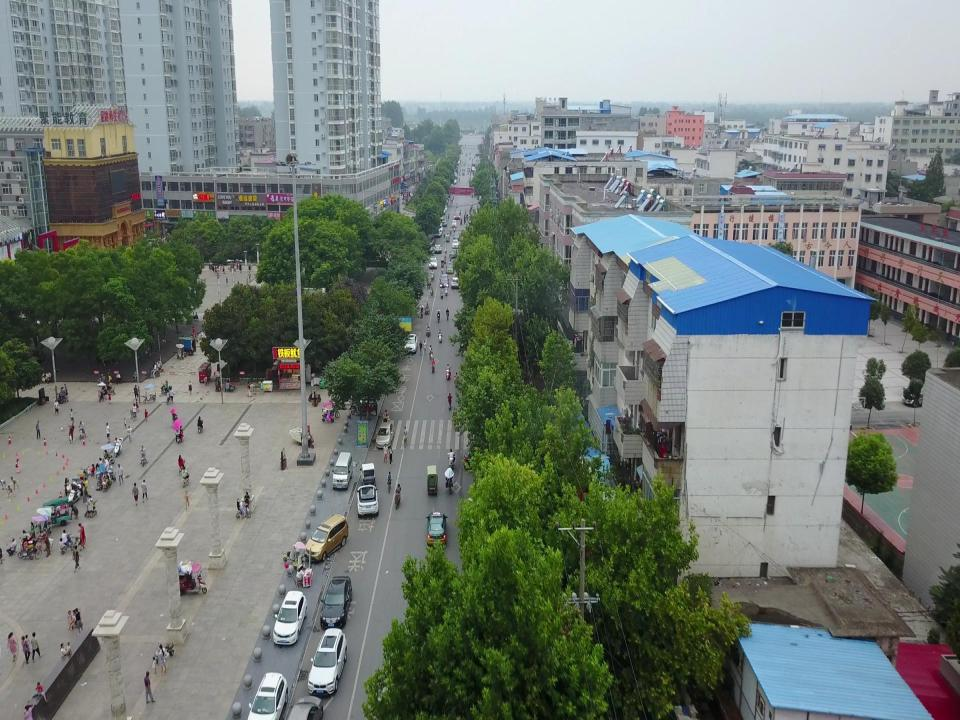car: (307, 627, 347, 696), (246, 670, 288, 720), (306, 515, 348, 561), (273, 589, 306, 647), (317, 576, 353, 628), (465, 431, 499, 468), (288, 696, 324, 720), (355, 485, 379, 519), (425, 511, 447, 546), (375, 422, 394, 448), (68, 490, 82, 503), (146, 369, 160, 378)
van: (331, 450, 353, 488)
